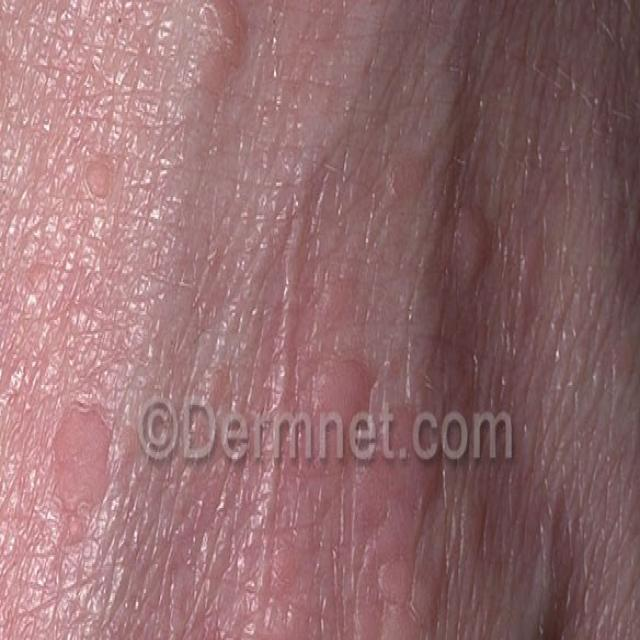Warts: (312, 346, 440, 531), (27, 362, 126, 554), (170, 7, 266, 133), (430, 192, 512, 289), (68, 131, 122, 231)
